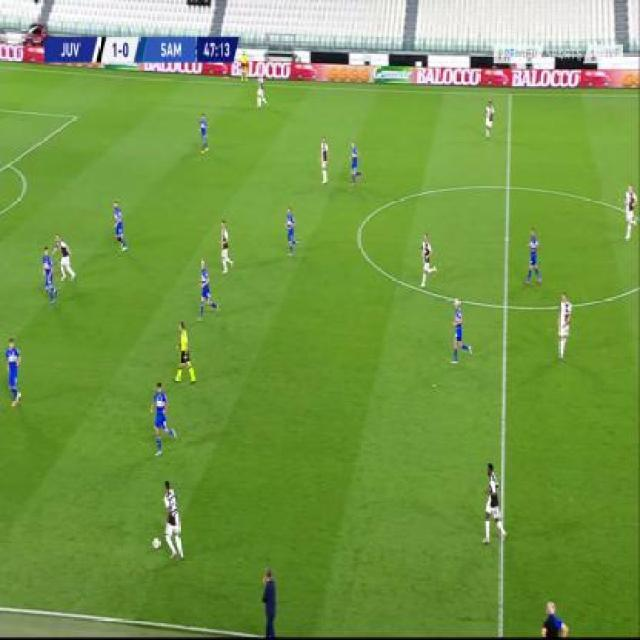ball: (152, 535, 160, 551)
player: (481, 457, 507, 546), (149, 379, 177, 455), (161, 476, 184, 562), (257, 559, 280, 639), (174, 319, 196, 384), (3, 332, 22, 406), (555, 287, 574, 361), (197, 256, 219, 319), (452, 296, 472, 364), (539, 598, 570, 640), (53, 232, 76, 283), (524, 226, 543, 286), (418, 231, 438, 287), (622, 178, 639, 241), (111, 199, 130, 253), (217, 218, 234, 275), (41, 245, 57, 305), (284, 204, 300, 258), (318, 134, 331, 187), (348, 139, 362, 187), (197, 110, 210, 153), (482, 99, 495, 139), (255, 71, 268, 107), (240, 49, 248, 80)
